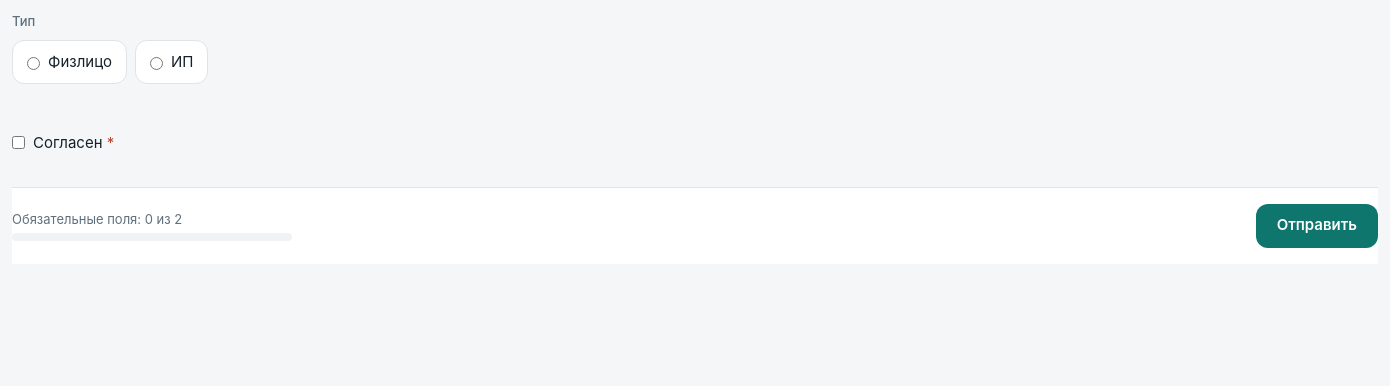
Scenario: DynamicForm › показывает поля расширения после выбора значения
Click the radio button labelled "ИП" at (156, 64), box [150,57,163,70]
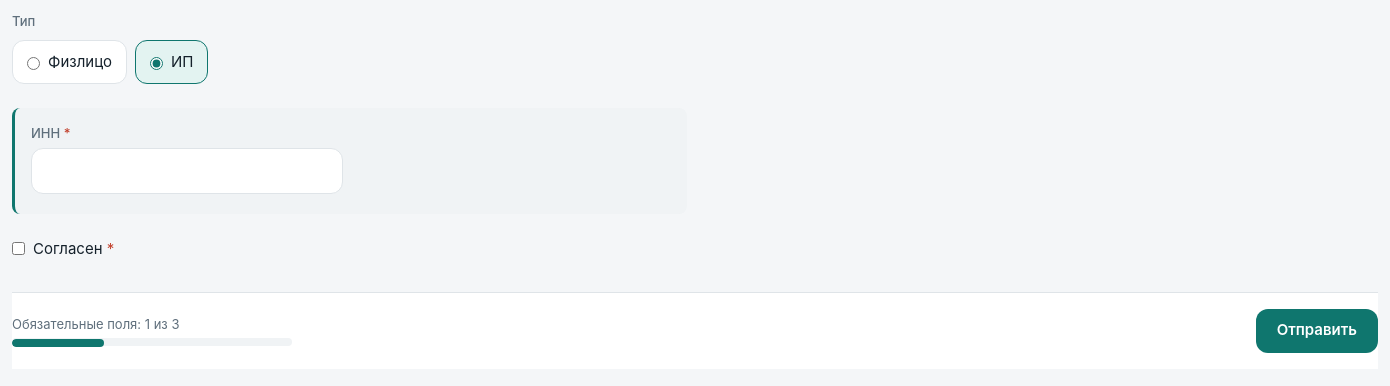
Check: the element showing "ИНН *" is shown, box [31,124,343,198]
